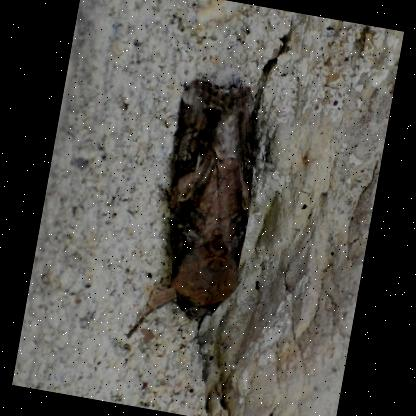Fall Armyworm Moth: (122, 68, 278, 359)
